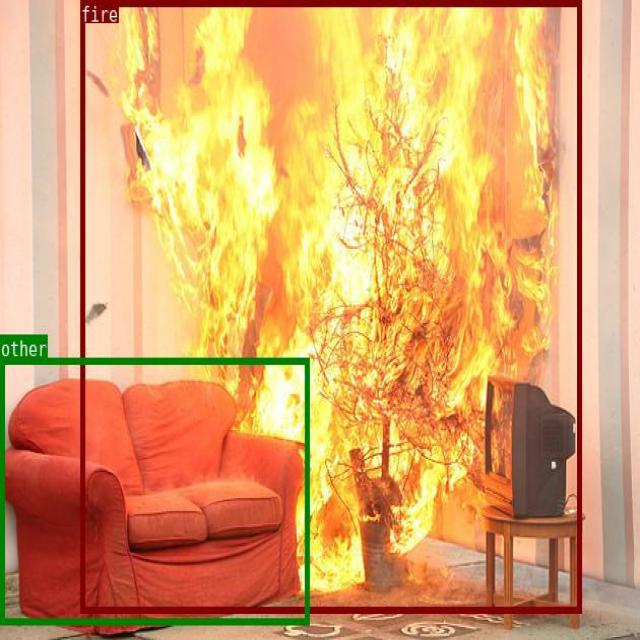fire: (80, 0, 581, 612)
other: (0, 356, 309, 624)
